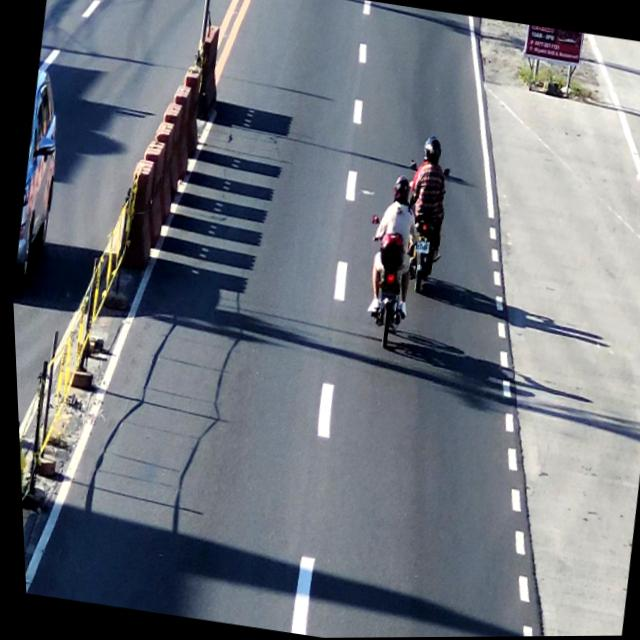Motorcycle: (355, 177, 421, 350), (392, 133, 453, 298), (410, 239, 430, 256)
